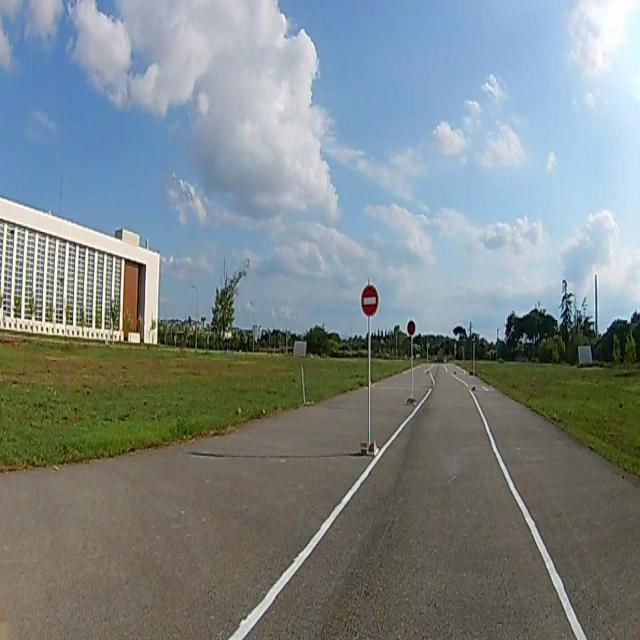girisyok: (361, 284, 380, 318)
